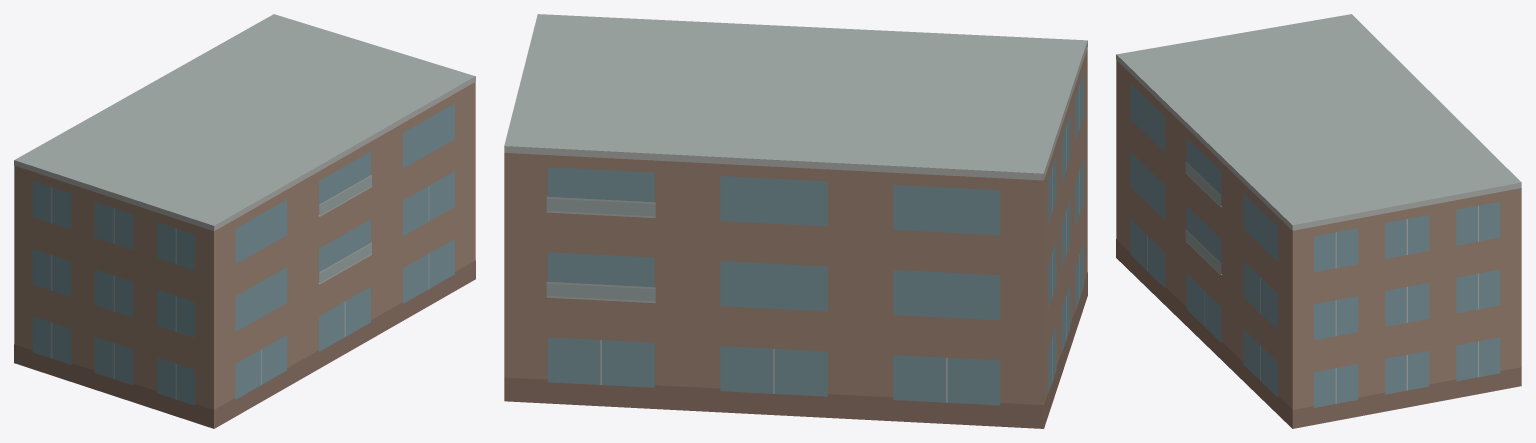
Rendered from survey-upis-32881083.glb.
The picture shows the model from 3 angles, left to right: view 1: azimuth 30°, elevation 25°; view 2: azimuth 150°, elevation 25°; view 3: azimuth 270°, elevation 25°; orthographic projection. The views are drawn at different scales.
Visible parts, largest first — view 1: survey-upis-32881083.tmp; view 2: survey-upis-32881083.tmp; view 3: survey-upis-32881083.tmp.
Boxes of the visible parts, x1,y1,x2,y2 form: survey-upis-32881083.tmp: (14, 14, 475, 428); survey-upis-32881083.tmp: (504, 14, 1087, 428); survey-upis-32881083.tmp: (1116, 14, 1521, 428).
Size of the model in its own units: 20.39 by 9.15 by 16.53.
